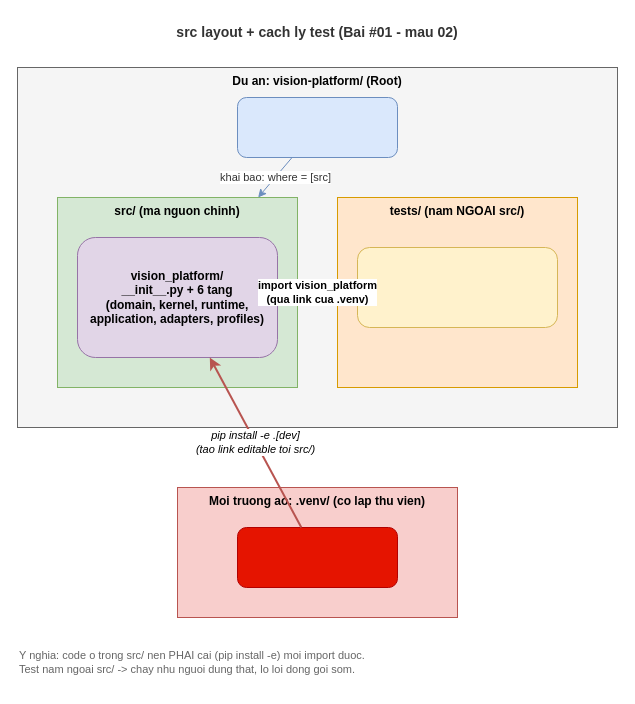
Image size: 635x704. Some labels were removed from this diagram. Here are the shapes that lost their labels. From the top down, the centre of each, then its label:
At pixel 317 127: "pyproject.toml (cau hinh + metadata)".
At pixel 457 287: "test_smoke.py import vision_platform".
At pixel 317 557: "python.exe (chay tests + app)".
